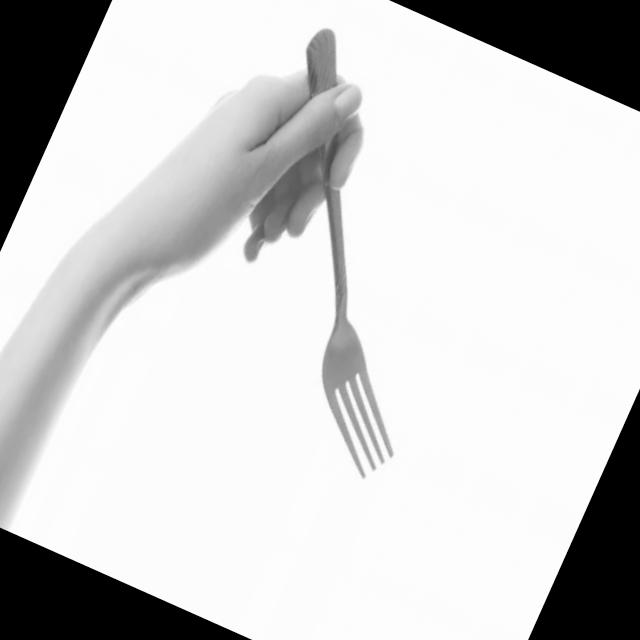fork: (153, 21, 542, 488)
